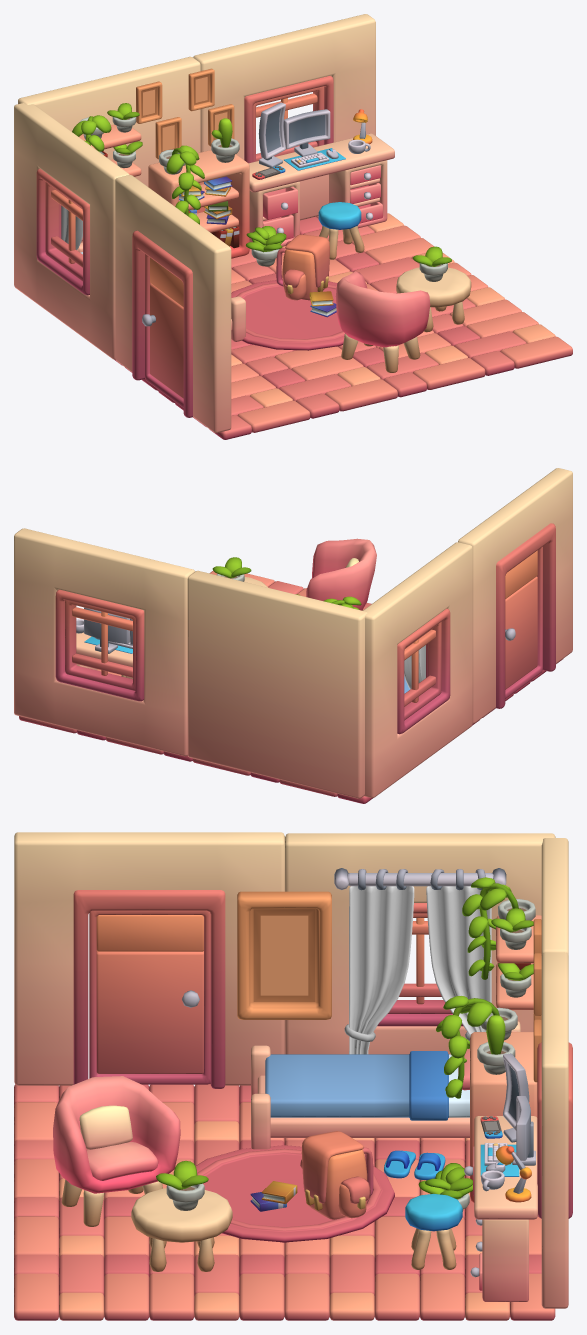
The picture shows the model from 3 angles, top to bottom: view 1: azimuth 30°, elevation 25°; view 2: azimuth 150°, elevation 25°; view 3: azimuth 270°, elevation 25°; orthographic projection. The views are drawn at different scales.
Visible parts, largest first — view 1: floor.001, wall_door.001, wall_window.001, wall_window.002, wall.001, chair.001, desk.001, rug.001, door.001, window.001, cabinet_01.001, window.002 (+18 smaller); view 2: wall.001, wall_window.002, wall_window.001, wall_door.001, window.002, door.001, window.001, chair.001, floor.001, computer_monitor_01, desk.001, plants_01.001 (+1 smaller); view 3: floor.001, wall_door.001, door.001, wall_window.001, bed.001, curtain.001, chair.001, frame.001, wall_window.002, rug.001, desk.001, bag (+19 smaller).
Boxes of the visible parts, x1=… form: floor.001: x1=114, y1=213, x2=572, y2=439; wall_door.001: x1=115, y1=175, x2=231, y2=432; wall_window.001: x1=14, y1=103, x2=129, y2=359; wall_window.002: x1=193, y1=14, x2=375, y2=220; wall.001: x1=18, y1=56, x2=200, y2=242; chair.001: x1=335, y1=271, x2=430, y2=372; desk.001: x1=249, y1=133, x2=394, y2=246; rug.001: x1=231, y1=279, x2=344, y2=350; door.001: x1=142, y1=254, x2=183, y2=407; window.001: x1=36, y1=168, x2=89, y2=295; cabinet_01.001: x1=148, y1=150, x2=249, y2=258; window.002: x1=244, y1=76, x2=333, y2=163; wall.001: x1=187, y1=570, x2=367, y2=798; wall_window.002: x1=14, y1=528, x2=194, y2=756; wall_window.001: x1=363, y1=542, x2=472, y2=797; wall_door.001: x1=458, y1=468, x2=572, y2=723; window.002: x1=55, y1=589, x2=144, y2=701; door.001: x1=505, y1=546, x2=542, y2=698; window.001: x1=397, y1=608, x2=450, y2=734; chair.001: x1=306, y1=538, x2=376, y2=610; floor.001: x1=19, y1=571, x2=562, y2=803; computer_monitor_01: x1=84, y1=607, x2=130, y2=653; desk.001: x1=76, y1=632, x2=132, y2=678; plants_01.001: x1=212, y1=557, x2=251, y2=581; floor.001: x1=14, y1=1084, x2=555, y2=1320; wall_door.001: x1=14, y1=832, x2=284, y2=1088; door.001: x1=89, y1=910, x2=210, y2=1084; wall_window.001: x1=285, y1=833, x2=555, y2=1054; bed.001: x1=251, y1=1021, x2=520, y2=1149; curtain.001: x1=334, y1=868, x2=506, y2=1054; chair.001: x1=53, y1=1076, x2=180, y2=1226; frame.001: x1=237, y1=891, x2=331, y2=1019; wall_window.002: x1=541, y1=952, x2=568, y2=1308; rug.001: x1=195, y1=1145, x2=394, y2=1242; desk.001: x1=474, y1=1116, x2=537, y2=1301; bag: x1=300, y1=1131, x2=373, y2=1219.
Bounding box in the file's own units: 4.16 × 2.1 × 4.13.
Materials: 1 (1 with a texture image).
